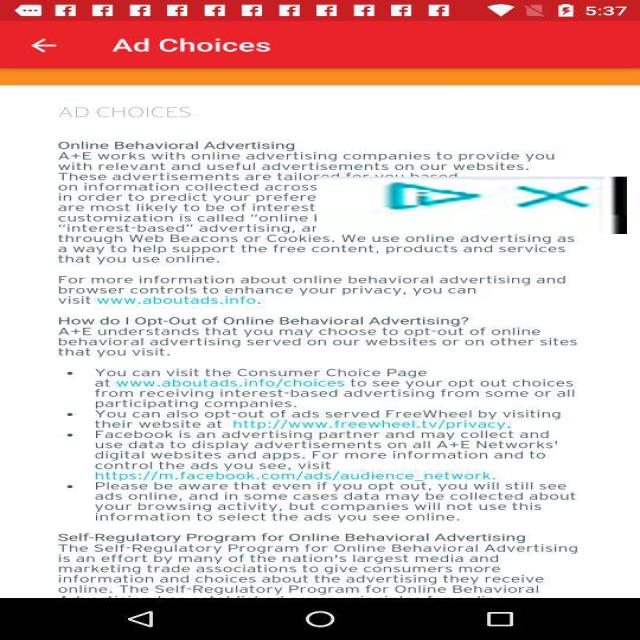sneaking: (316, 177, 627, 234)
